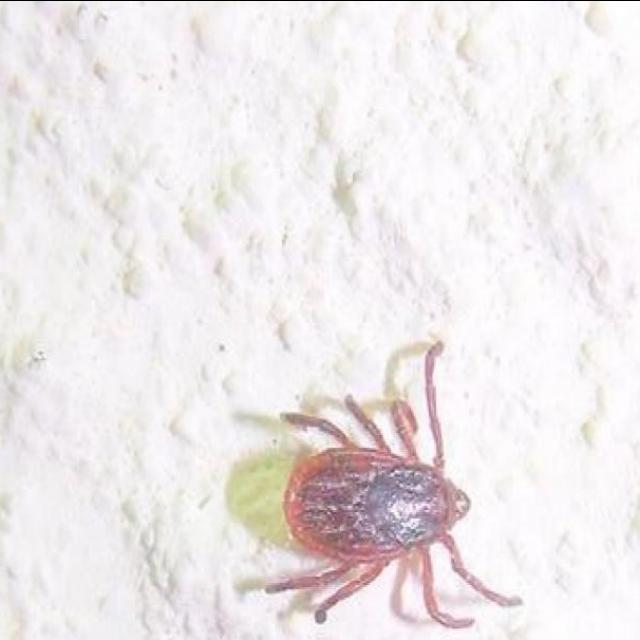Rhipicephalus Sanguineus-F: (240, 341, 523, 626)
